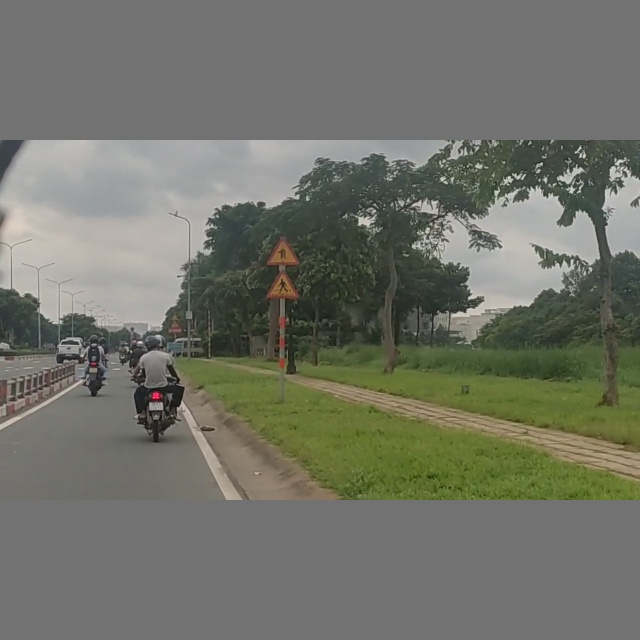W.207: (267, 237, 300, 265)
W.224: (266, 270, 299, 298)
